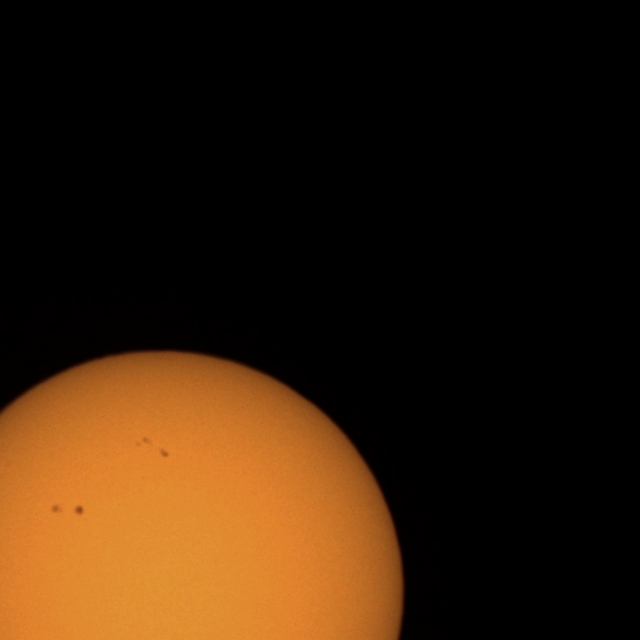sunspot: (136, 436, 170, 459), (49, 502, 86, 518), (50, 503, 64, 515), (73, 504, 85, 517), (158, 447, 170, 459)
